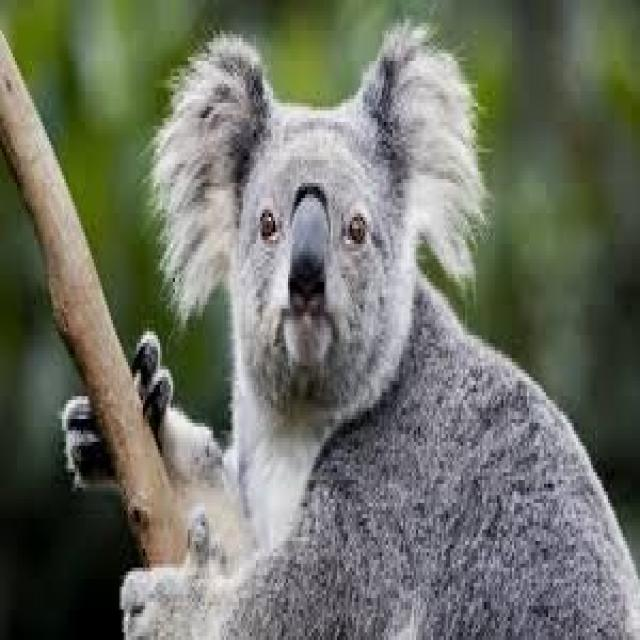Koala: (62, 14, 640, 640)
